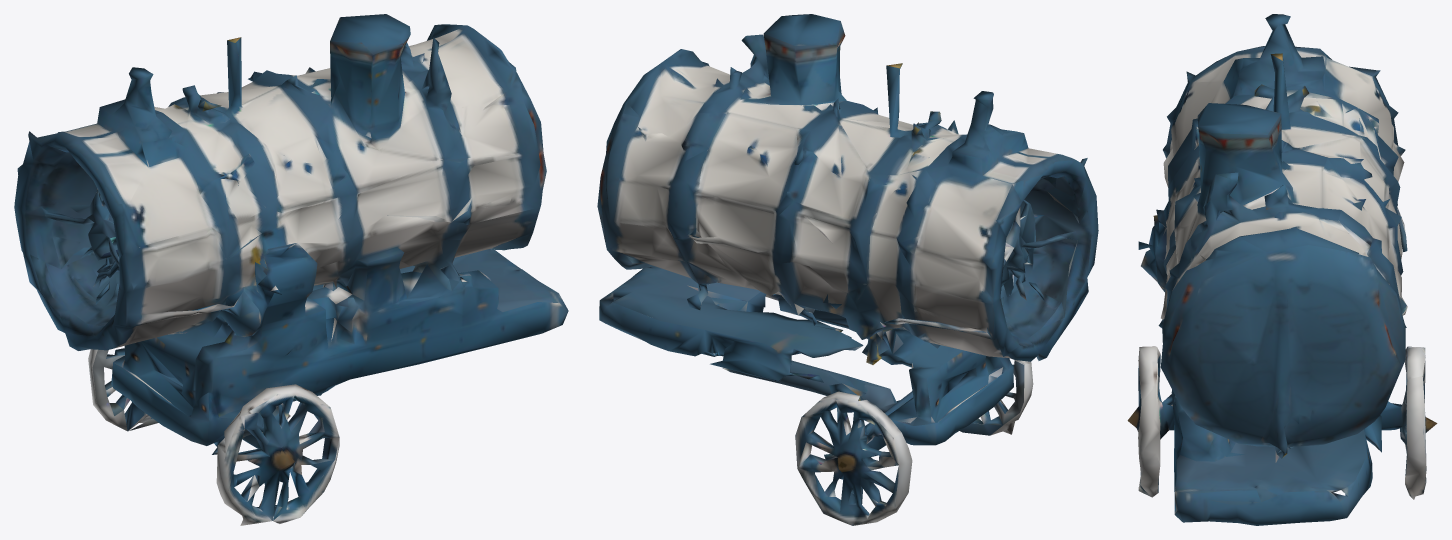
File: crucible_mortar.glb
3 views of the same model, side by side, from view 1: azimuth 30°, elevation 25°; view 2: azimuth 150°, elevation 25°; view 3: azimuth 270°, elevation 25° (orthographic). The views are drawn at different scales.
Visible parts, largest first — view 1: LP_baked; view 2: LP_baked; view 3: LP_baked.
Part boxes in pixels (x1,y1,x2,y2): LP_baked: (14, 14, 568, 525); LP_baked: (597, 14, 1098, 525); LP_baked: (1127, 14, 1437, 525).
Size of the model in its own units: 1.9 by 1.73 by 1.1.
1 material, 1 textured.
